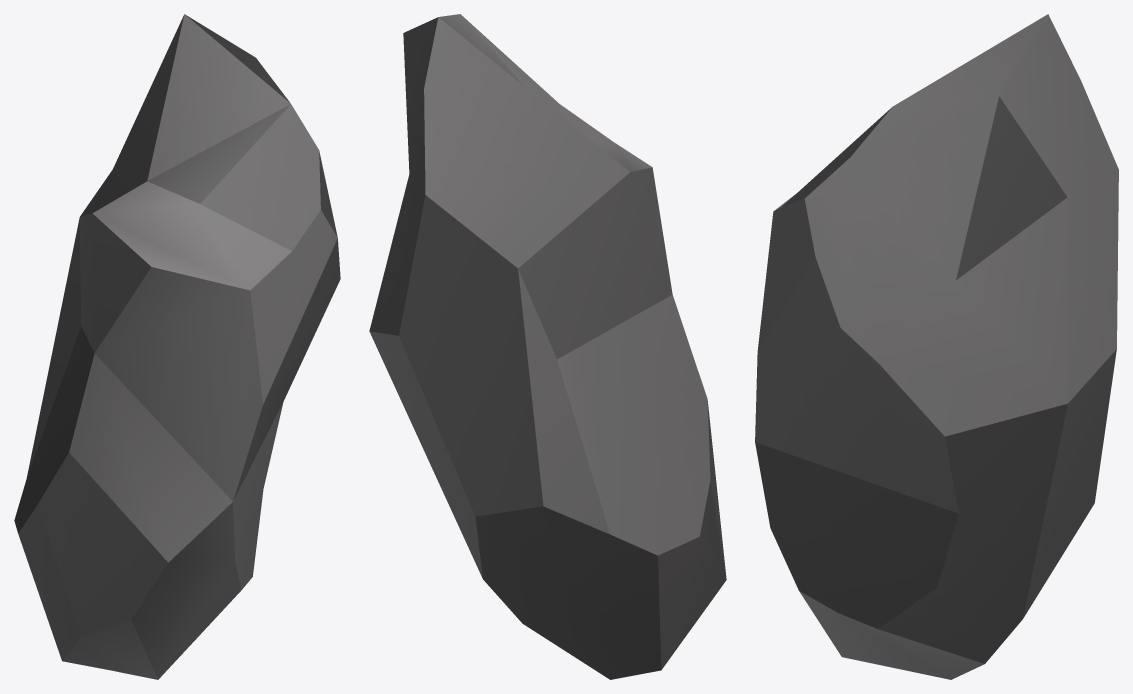
File: geode-02.glb
3 renders of one model, left to right at view 1: azimuth 30°, elevation 25°; view 2: azimuth 150°, elevation 25°; view 3: azimuth 270°, elevation 25°, orthographic. The views are drawn at different scales.
Visible parts, largest first — view 1: menhir_petit; view 2: menhir_petit; view 3: menhir_petit.
Part boxes in pixels (x1,y1,x2,y2): menhir_petit: (14,14,340,679); menhir_petit: (369,14,726,679); menhir_petit: (755,14,1118,679).
Bounding box in the file's own units: 1.06 × 2.1 × 0.9429.
Materials: 1 (1 with a texture image).
